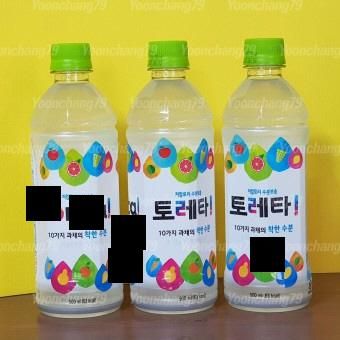toreta: (117, 34, 225, 314), (221, 35, 318, 311)
